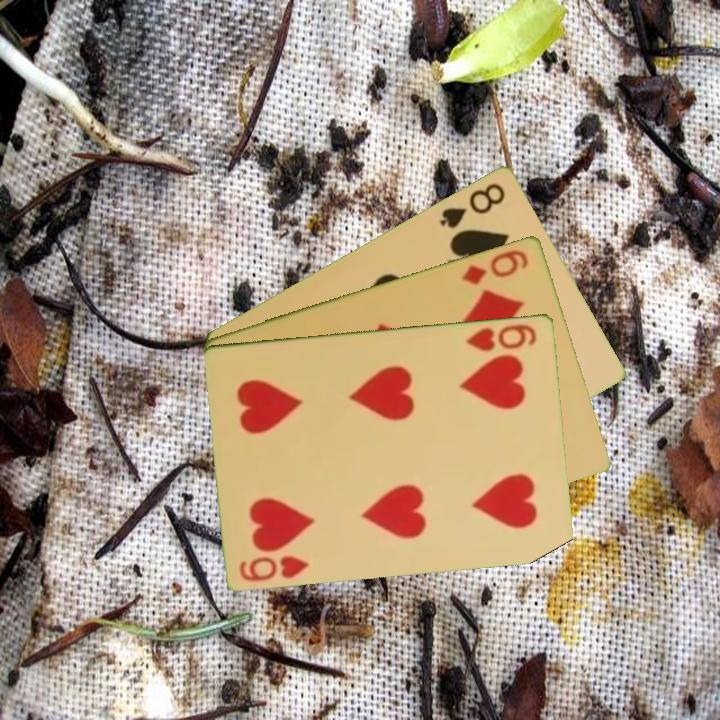6d: (457, 245, 532, 288)
6h: (463, 320, 540, 354), (236, 551, 313, 584)
8s: (436, 178, 509, 231)
